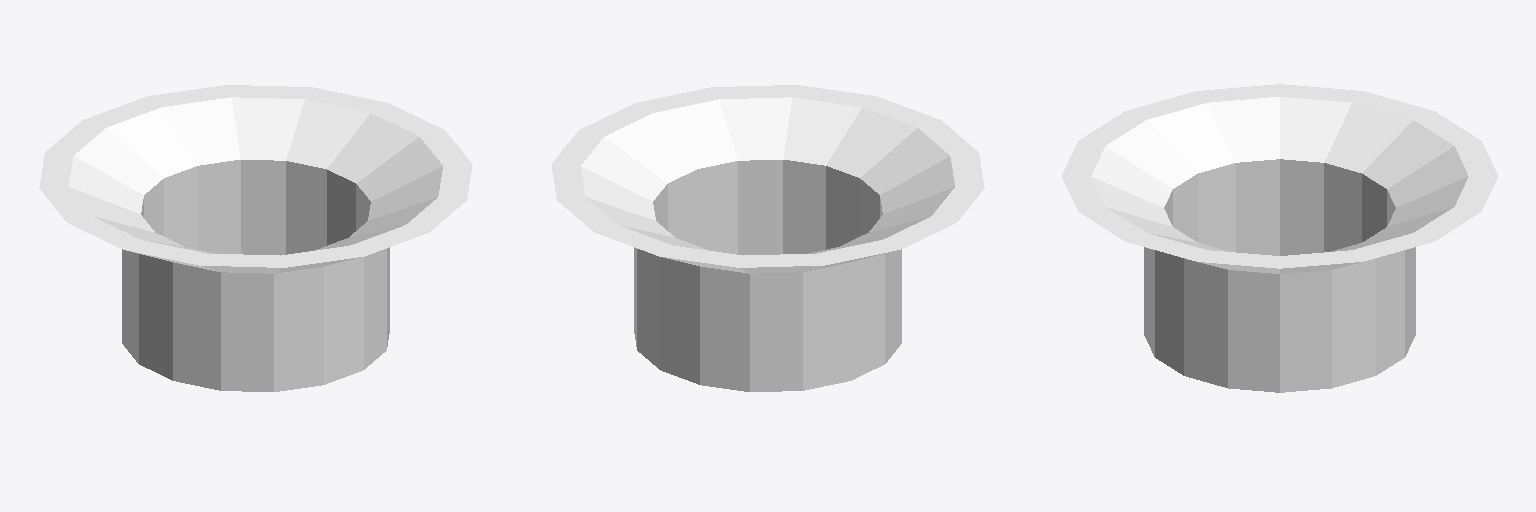
Rendered from gutter_top.obj.
The picture shows the model from 3 angles: view 1: azimuth 30°, elevation 25°; view 2: azimuth 150°, elevation 25°; view 3: azimuth 270°, elevation 25°; orthographic projection.
Parts seen in each view (by area): view 1: Cylinder1_extract3; view 2: Cylinder1_extract3; view 3: Cylinder1_extract3.
Boxes of the visible parts, x1,y1,x2,y2 form: Cylinder1_extract3: [39, 85, 472, 391]; Cylinder1_extract3: [551, 85, 984, 391]; Cylinder1_extract3: [1062, 84, 1497, 392].
Size of the model in its own units: 0.993 by 0.399 by 0.993.